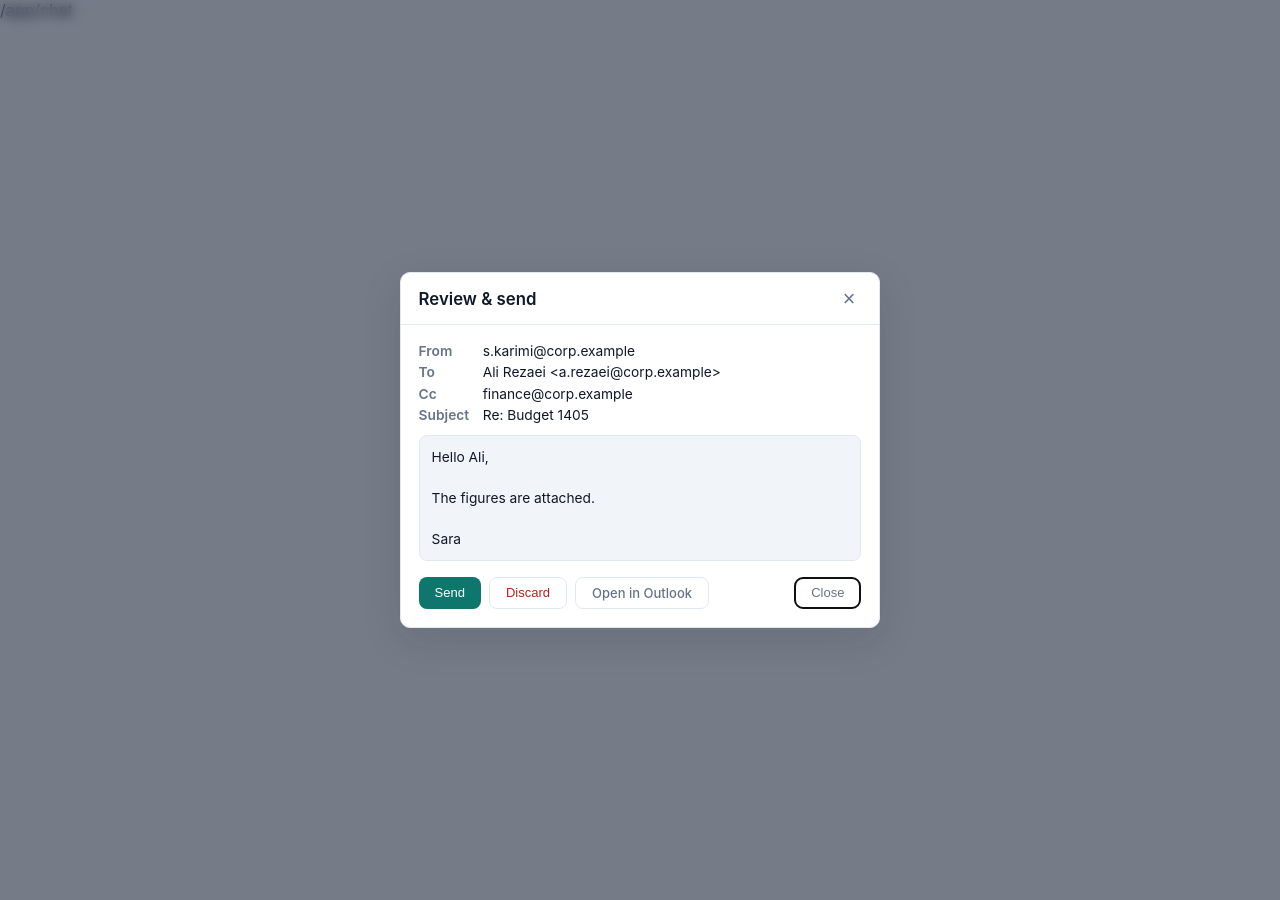
Scenario: MailReviewDialog › reads a draft changed in Outlook again, with a notice, and sends the new change key
Click the button "Send" at (450, 593), box [419, 577, 481, 609]
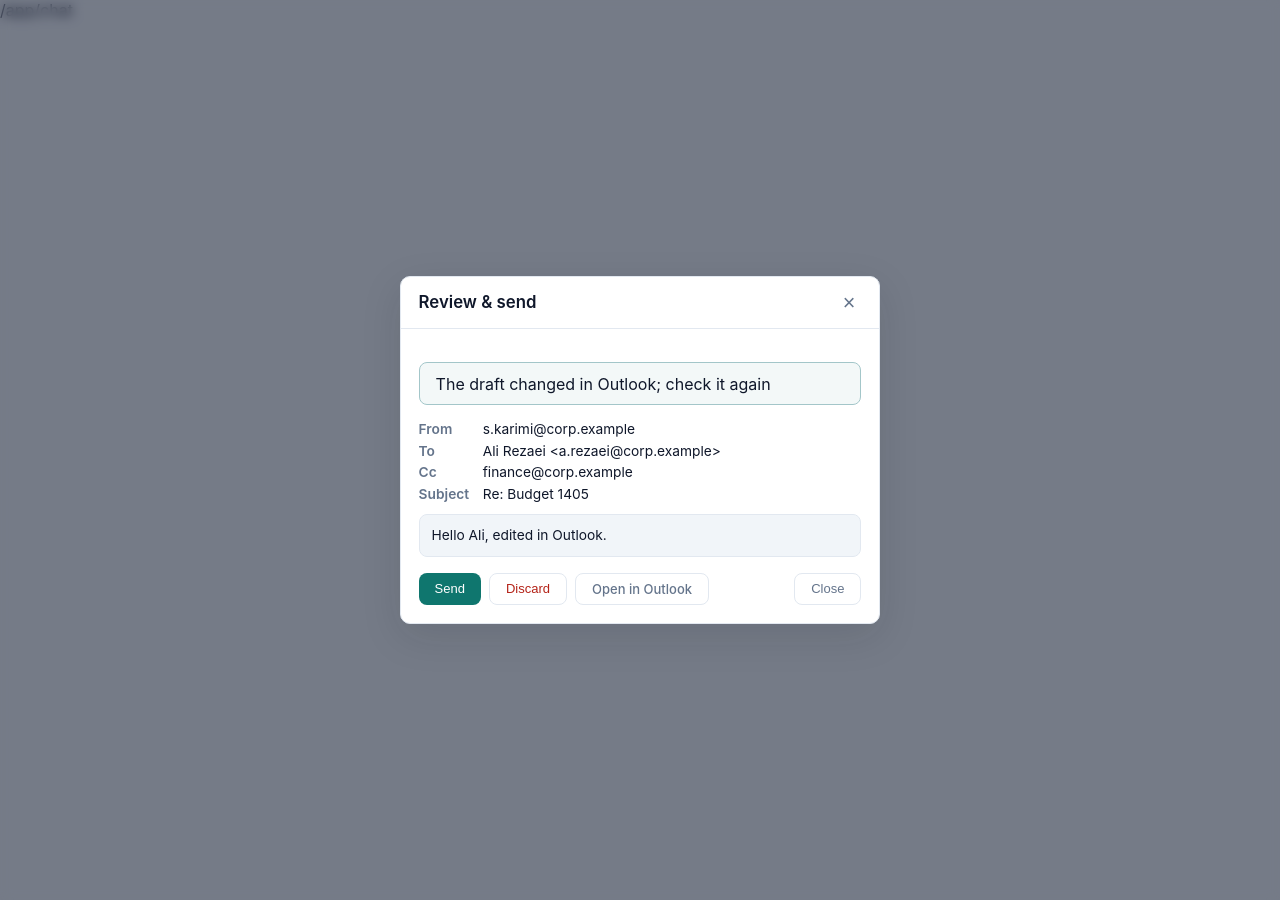
Check: the text "Sent Items" is not shown
Check: the dialog shows "The draft changed in Outlook; check it again", box [436, 374, 771, 394]
Check: the text with class "mail-review__text" reads "Hello Ali, edited in Outlook.", box [432, 527, 607, 543]
Click the button "Send" at (450, 589), box [419, 573, 481, 605]
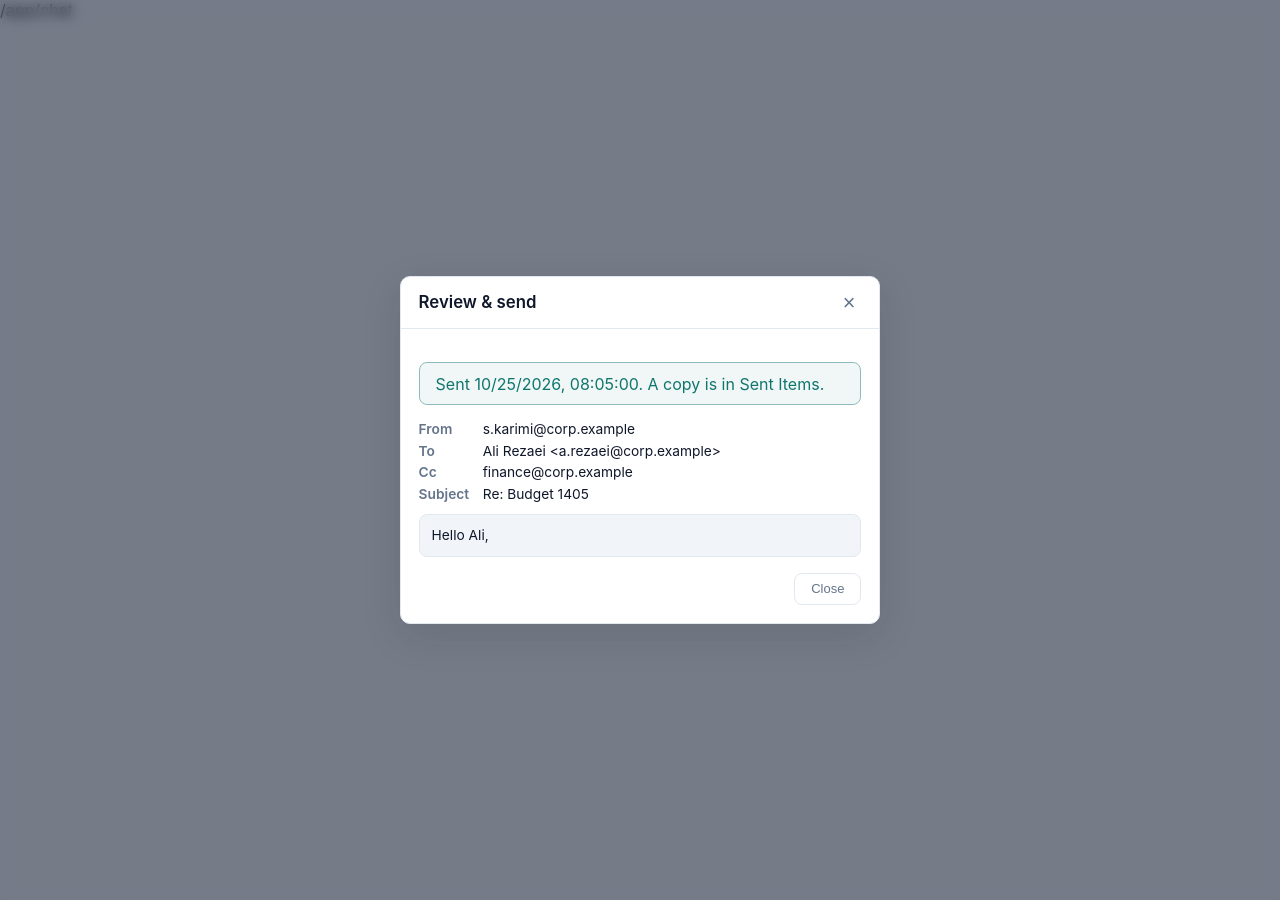
Check: the dialog shows "A copy is in Sent Items.", box [638, 374, 824, 394]
